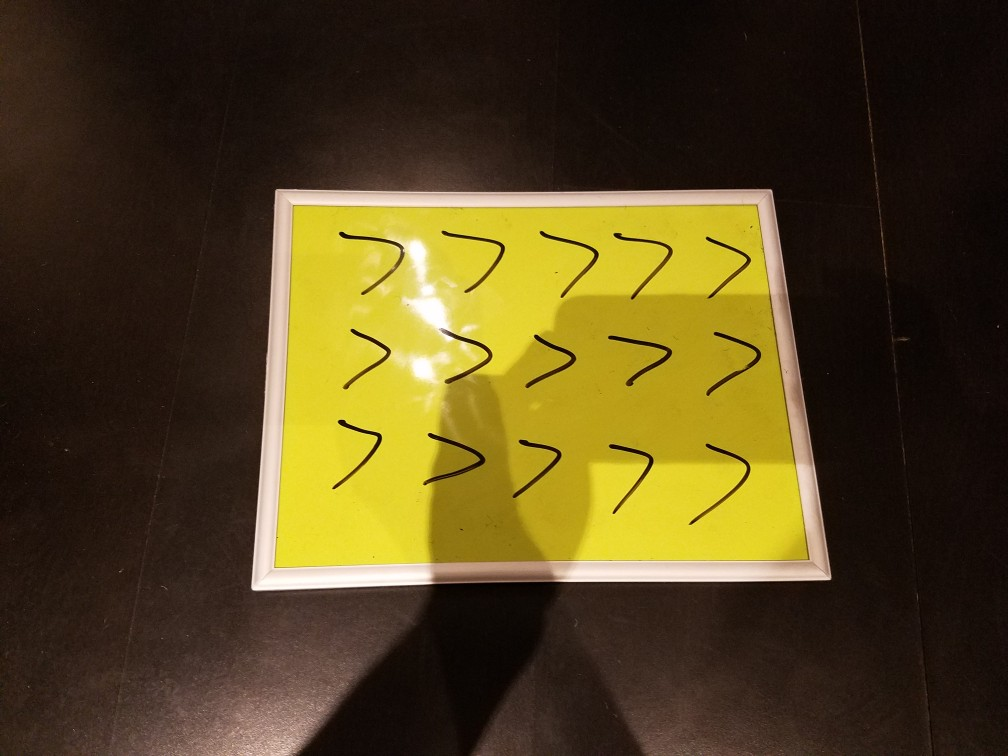>: (671, 422, 771, 546), (587, 428, 674, 533), (518, 309, 594, 410), (600, 312, 681, 406), (323, 210, 410, 297), (692, 313, 768, 406), (416, 415, 489, 510), (327, 403, 395, 504), (507, 430, 588, 512), (435, 211, 511, 297), (532, 210, 600, 305), (426, 315, 500, 399), (693, 216, 754, 305), (333, 309, 393, 397), (621, 213, 677, 305)
